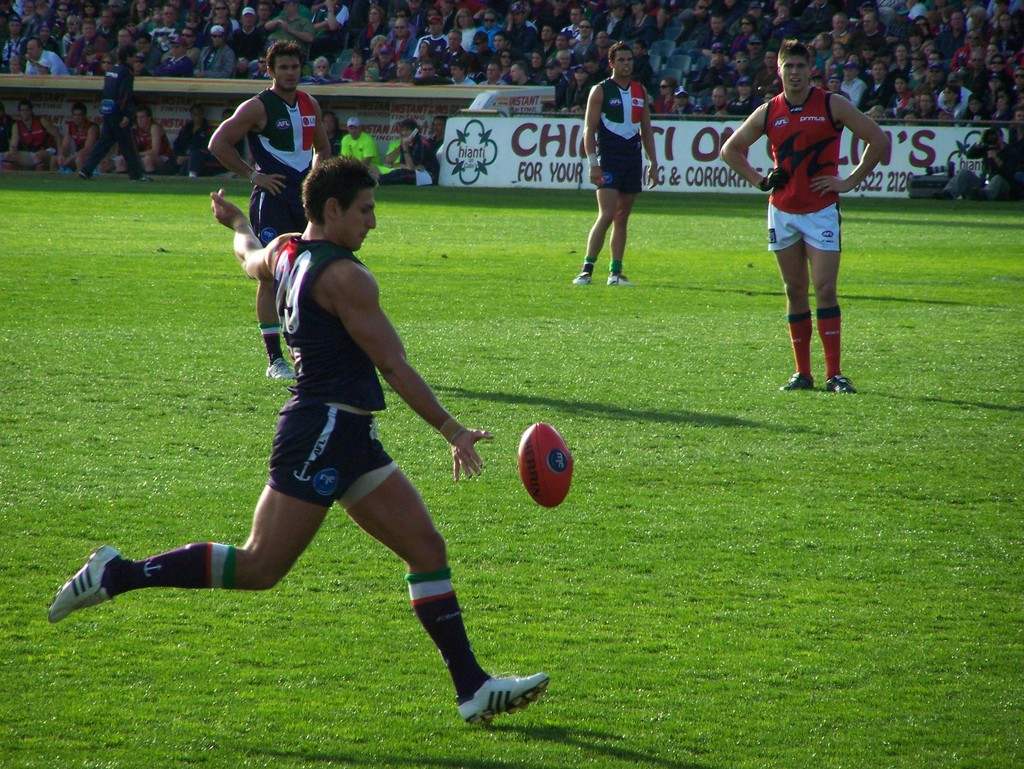Ball: (516, 420, 575, 509)
